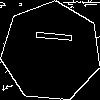I: (26, 26, 73, 45)
